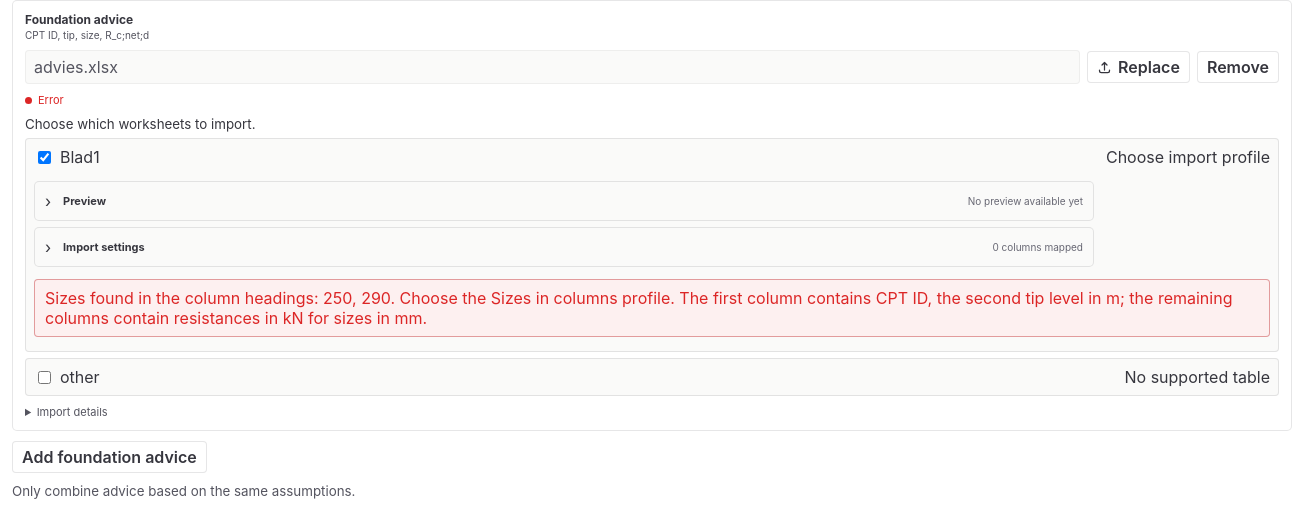
Test: matrix profile settings are collapsed while actionable errors stay visible
Expected: the text with class "advice-import-primary-diagnostics" shows "250", [45,288,1237,328]
Expected: the checkbox labelled "other" is enabled, [38,370,51,384]
Click the checkbox labelled "Blad1" at {"x": 44, "y": 157}, box [38,150,51,164]
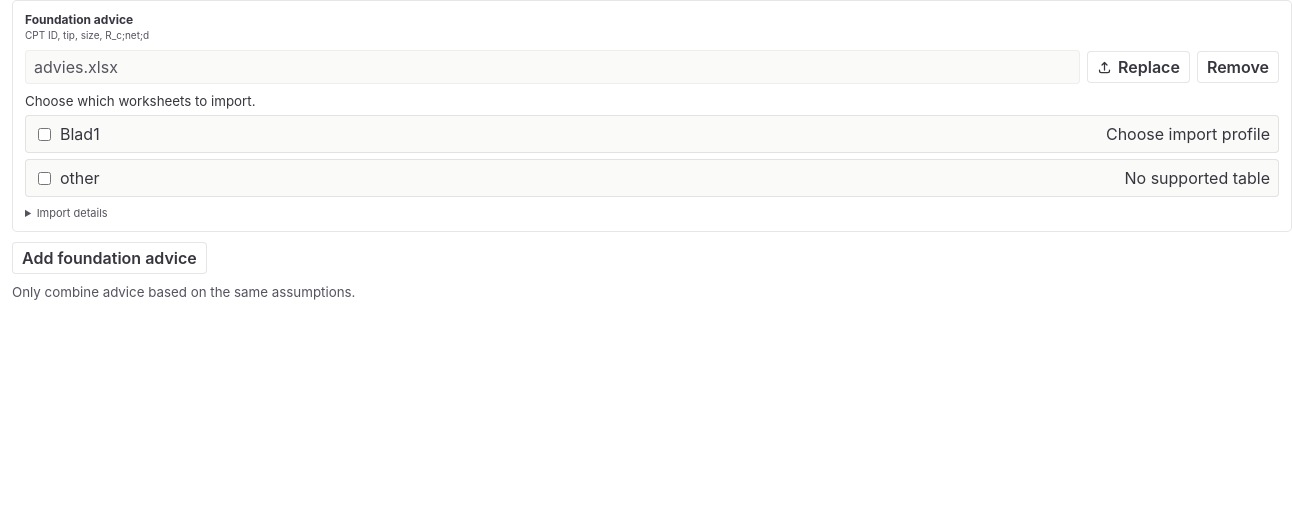
Expected: the text with class "advice-import-primary-diagnostics" is gone
Click the checkbox labelled "Blad1" at {"x": 44, "y": 134}, box [38,128,51,140]
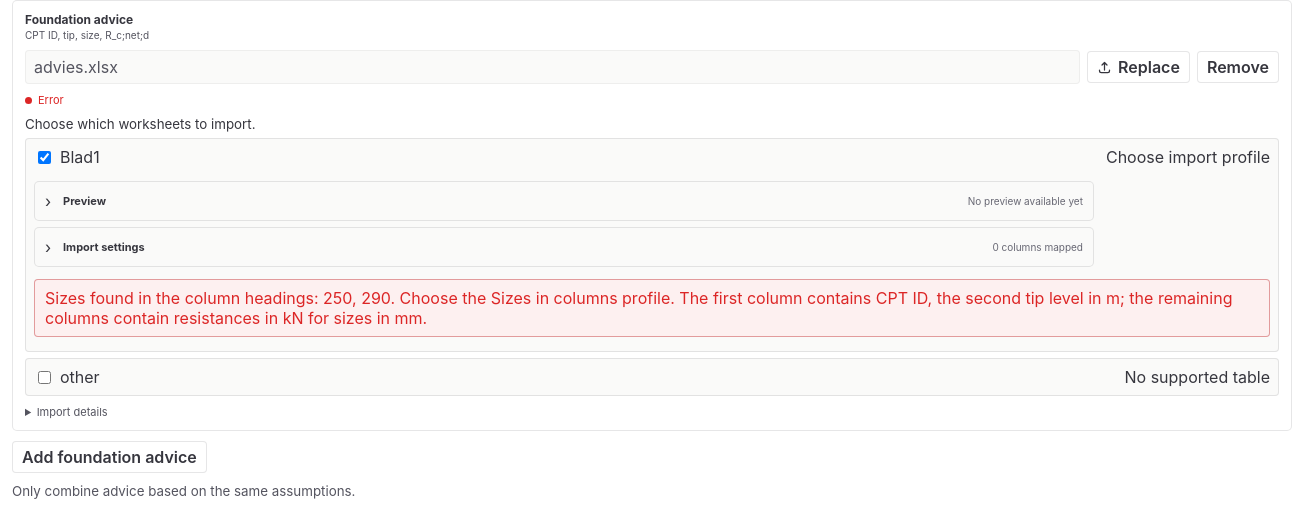
Expected: the number of elements with class "advice-import-primary-diagnostics" is 1, [34,279,1270,337]
